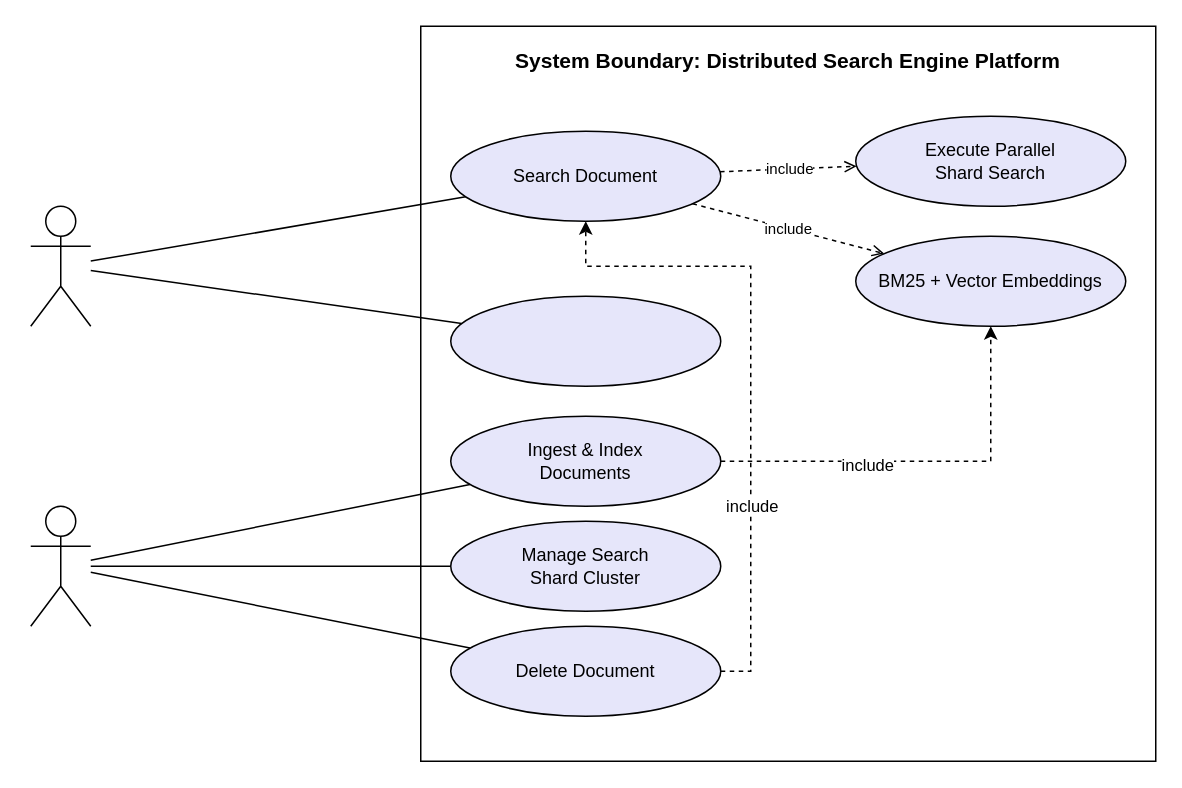
Some shapes in this 1182 by 788 pixel diagram are drawn without their labels. The box of each missing label's shape, as (x1, y1, x2, y2) in pixels:
System Admin: (29, 505, 91, 626)
User: (29, 205, 91, 326)
View Ranked Search Results: (449, 295, 721, 386)
